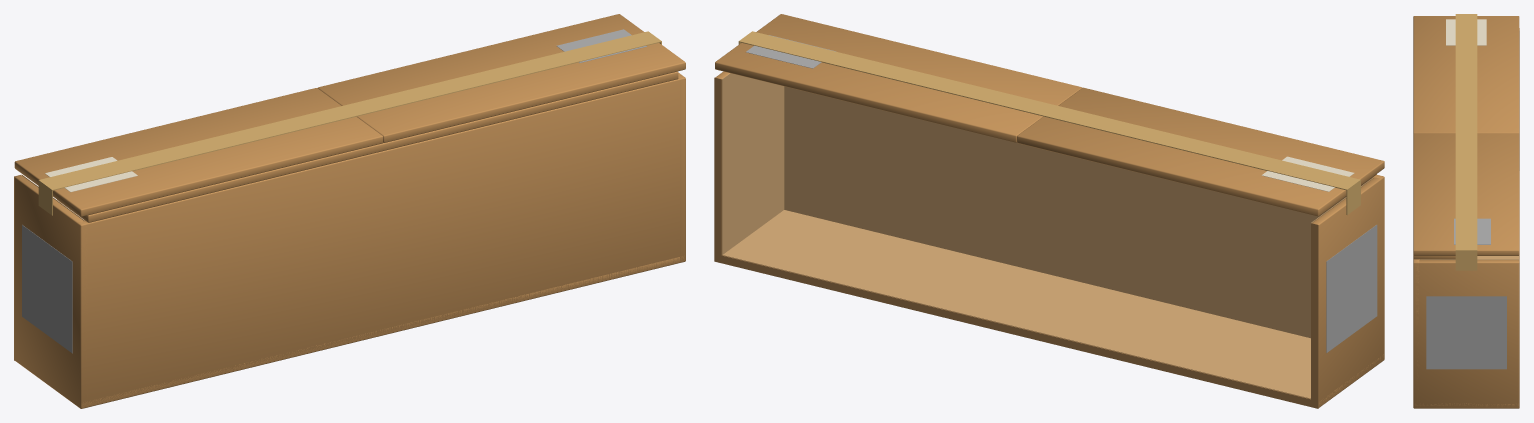
3 views of the same model, side by side, from view 1: azimuth 30°, elevation 25°; view 2: azimuth 150°, elevation 25°; view 3: azimuth 270°, elevation 25° (orthographic). The views are drawn at different scales.
Parts seen in each view (by area): view 1: box_7x2, FlapR, FlapL, Tape, FlapB; view 2: box_7x2, FlapR, FlapL, Tape; view 3: box_7x2, FlapL, FlapR, Tape, FlapB.
Boxes of the visible parts, x1,y1,x2,y2 form: box_7x2: (14, 72, 685, 408); FlapR: (14, 88, 382, 216); FlapL: (318, 14, 685, 142); Tape: (38, 31, 661, 215); FlapB: (57, 71, 678, 222); box_7x2: (714, 71, 1384, 408); FlapR: (1017, 87, 1384, 216); FlapL: (715, 14, 1082, 142); Tape: (738, 31, 1360, 214); box_7x2: (1413, 28, 1519, 408); FlapL: (1413, 133, 1519, 255); FlapR: (1413, 16, 1519, 133); Tape: (1455, 14, 1477, 270); FlapB: (1413, 255, 1455, 259).
Bounding box in the file's own units: 1.81 × 0.5685 × 0.3428.
